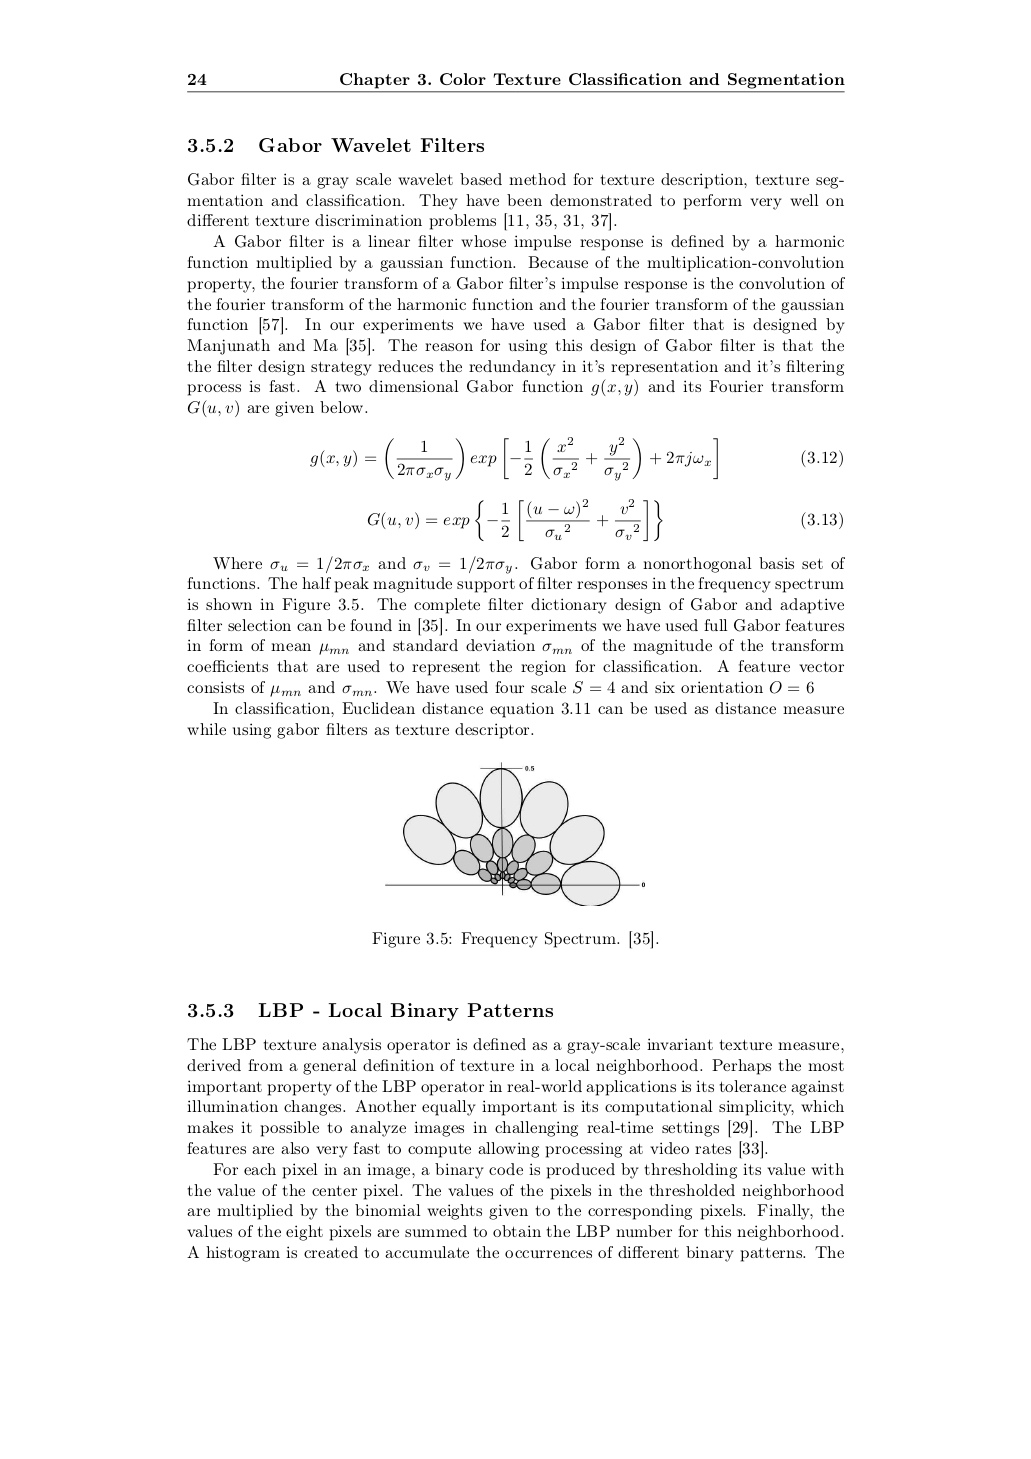figure: (385, 761, 644, 906)
formula: (310, 435, 842, 481), (367, 497, 842, 542)
